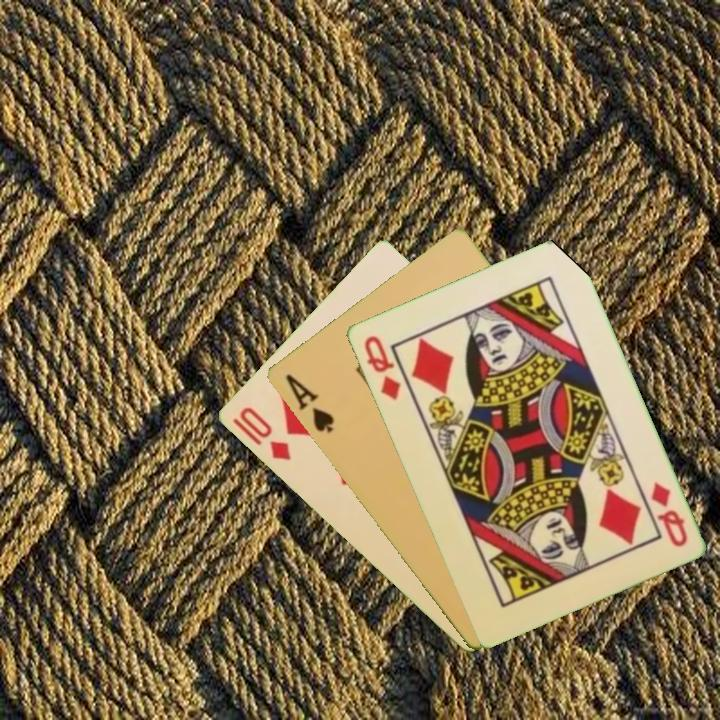10d: (235, 403, 294, 464)
As: (281, 370, 337, 436)
Qd: (360, 331, 404, 403), (646, 479, 690, 550)
